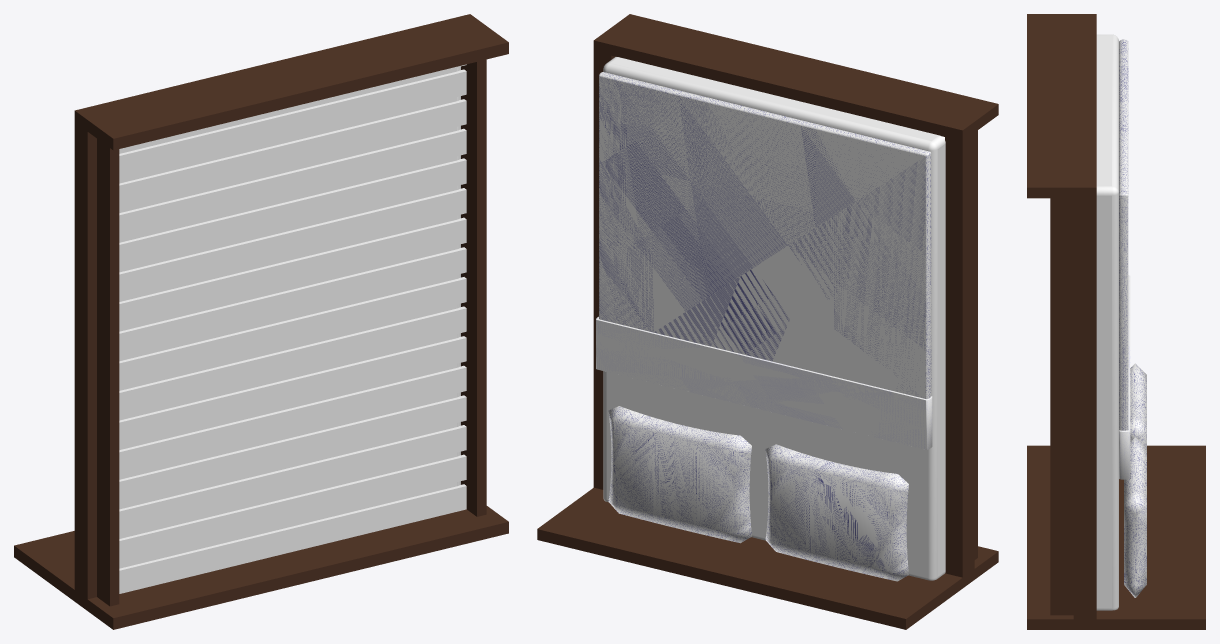
Rendered from malmBed.dae.
3 renders of one model, left to right at view 1: azimuth 30°, elevation 25°; view 2: azimuth 150°, elevation 25°; view 3: azimuth 270°, elevation 25°, orthographic. The views are drawn at different scales.
Parts seen in each view (by area): view 1: group_9, group_3, group_2, instance_0, instance_1, instance_1_001, instance_8, instance_6, instance_12, instance_14, instance_16, instance_2 (+9 smaller); view 2: group_11, group_9, group_2, group_3, group_12, group_7, group_8, instance_0, instance_0_001, instance_1; view 3: group_2, group_9, group_3, instance_0_001, instance_1_001, group_11, group_8, group_7, group_12.
Part boxes in pixels (box(x1,y1,x2,y2)): group_9: box(119, 66, 460, 568); group_3: box(74, 14, 508, 150); group_2: box(14, 506, 508, 629); instance_0: box(74, 122, 96, 599); instance_1: box(97, 139, 119, 606); instance_1_001: box(464, 59, 486, 516); instance_8: box(119, 306, 466, 416); instance_6: box(119, 365, 466, 475); instance_12: box(119, 188, 466, 297); instance_14: box(119, 128, 466, 238); instance_16: box(119, 69, 466, 179); instance_2: box(119, 484, 466, 593); group_11: box(599, 72, 931, 398); group_9: box(603, 57, 945, 580); group_2: box(537, 487, 998, 629); group_3: box(593, 14, 998, 141); group_12: box(596, 316, 932, 449); group_7: box(765, 444, 908, 581); group_8: box(608, 406, 751, 543); instance_0: box(945, 133, 974, 577); instance_0_001: box(593, 51, 615, 489); instance_1: box(974, 130, 977, 559); group_2: box(1027, 445, 1205, 629); group_9: box(1096, 34, 1118, 610); group_3: box(1027, 14, 1096, 198); instance_0_001: box(1073, 198, 1096, 619); instance_1_001: box(1050, 198, 1073, 615); group_11: box(1119, 39, 1128, 430); group_8: box(1124, 437, 1146, 597); group_7: box(1130, 363, 1146, 448); group_12: box(1119, 275, 1130, 479).
Size of the model in its own units: 1.77 by 0.77 by 2.1.
